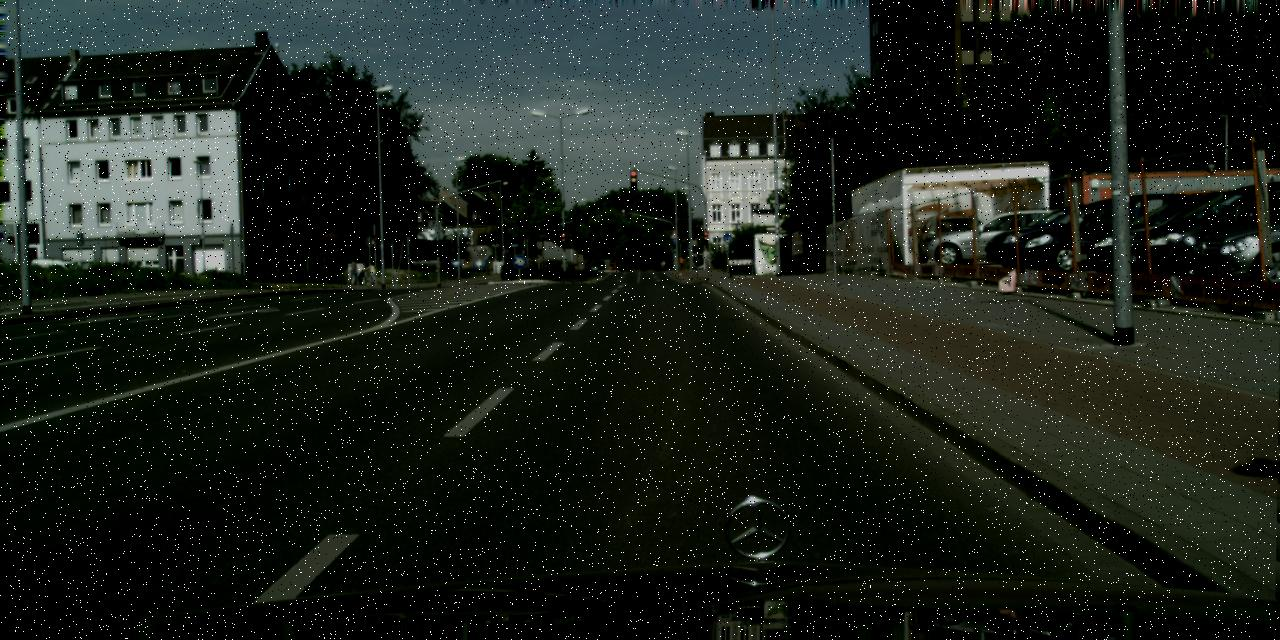ped: (348, 256, 360, 285), (362, 263, 377, 284)
